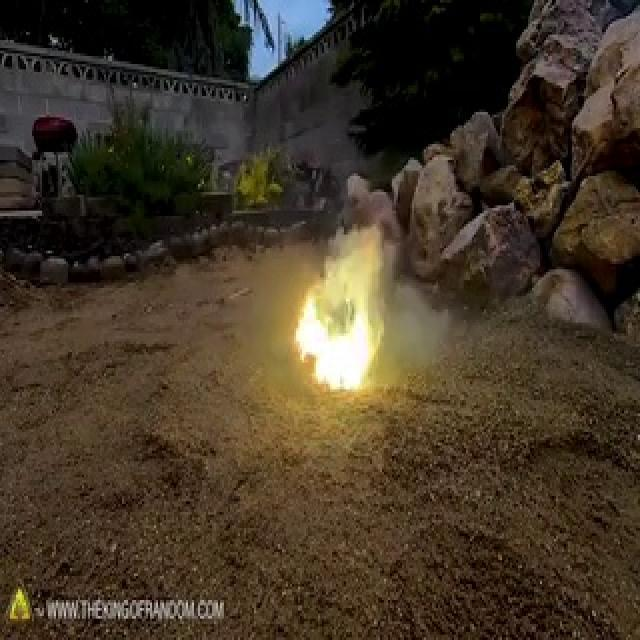fire: (285, 235, 365, 398)
